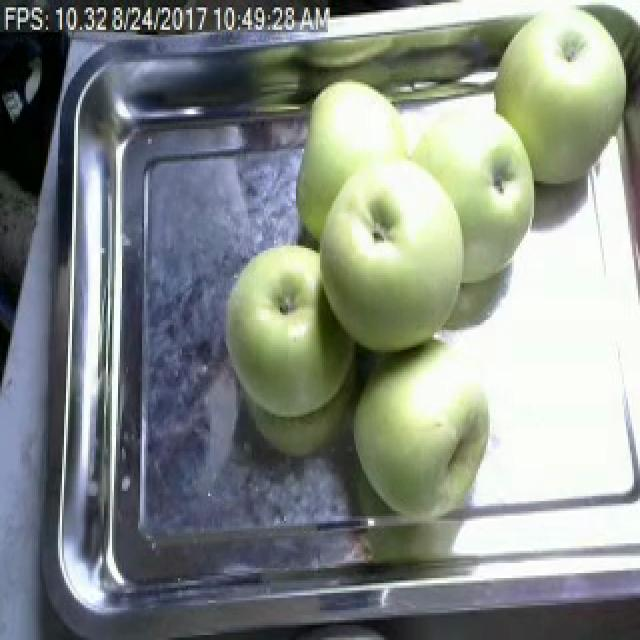50-_ripeness: (402, 84, 574, 294), (356, 335, 524, 517), (204, 222, 354, 416), (316, 171, 476, 341), (474, 8, 640, 158)
